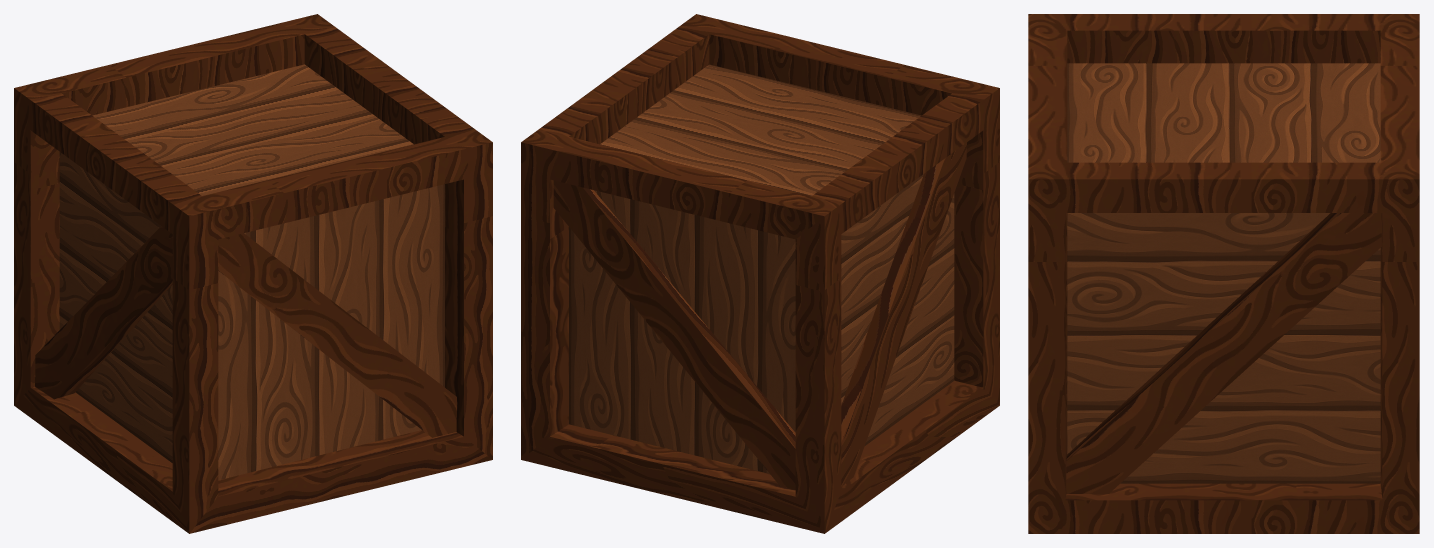
File: crate.fbx
3 renders of one model, left to right at view 1: azimuth 30°, elevation 25°; view 2: azimuth 150°, elevation 25°; view 3: azimuth 270°, elevation 25°, orthographic. The views are drawn at different scales.
Parts seen in each view (by area): view 1: Cube.002; view 2: Cube.002; view 3: Cube.002.
Boxes of the visible parts, x1,y1,x2,y2 form: Cube.002: [14, 14, 492, 533]; Cube.002: [521, 14, 999, 533]; Cube.002: [1028, 14, 1419, 533].
Bounding box in the file's own units: 200 × 200 × 200.
